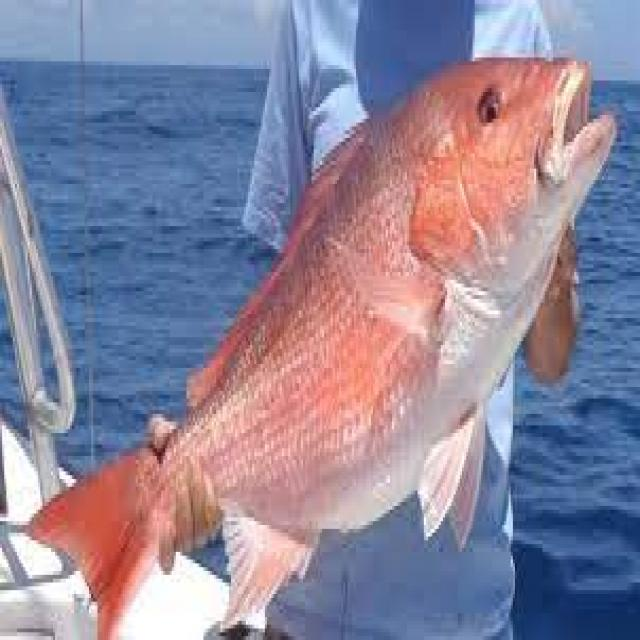northern-red-snapper: (17, 41, 621, 640)
